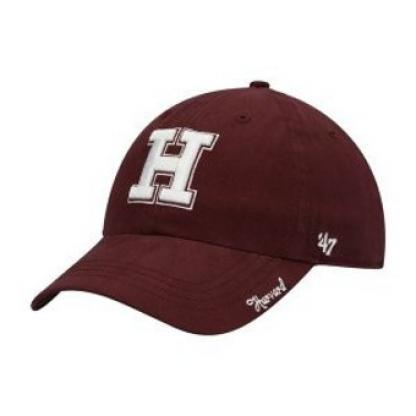cap: (18, 71, 390, 339)
